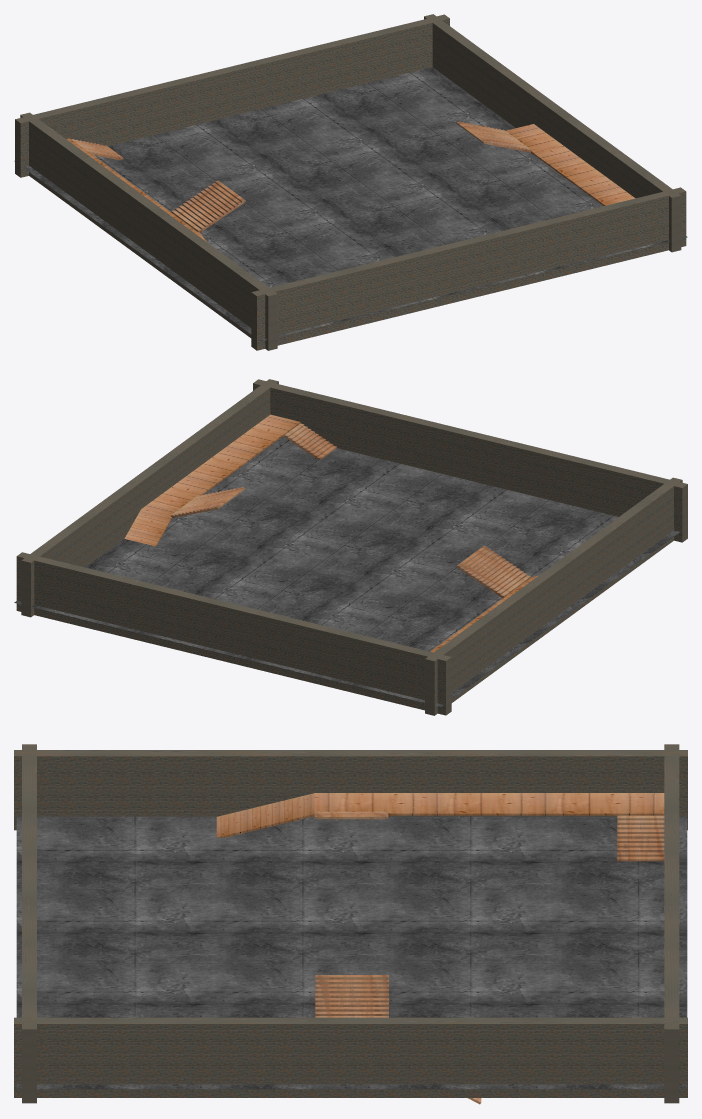
File: playground.fbx
3 views of the same model, one above another, from view 1: azimuth 30°, elevation 25°; view 2: azimuth 150°, elevation 25°; view 3: azimuth 270°, elevation 25° (orthographic). The views are drawn at different scales.
Parts seen in each view (by area): view 1: levelGeometry-mesh; view 2: levelGeometry-mesh; view 3: levelGeometry-mesh.
Part boxes in pixels (left/top/right/bottom): levelGeometry-mesh: left=14, top=14, right=687, bottom=350; levelGeometry-mesh: left=14, top=379, right=687, bottom=715; levelGeometry-mesh: left=14, top=744, right=687, bottom=1104.
Bounding box in the file's own units: 10211 × 10211 × 1452.
Materials: 4 (4 with a texture image).
